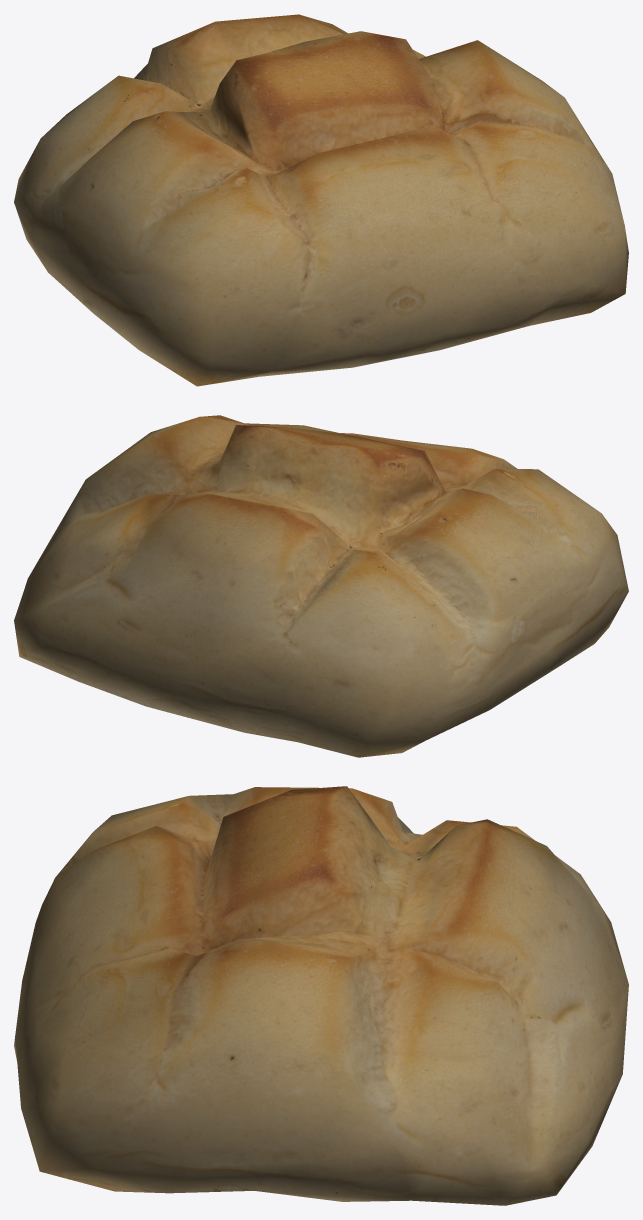
File: 3DBread004_LQ-2K-JPG.obj
The picture shows the model from 3 angles, top to bottom: view 1: azimuth 30°, elevation 25°; view 2: azimuth 150°, elevation 25°; view 3: azimuth 270°, elevation 25°; orthographic projection. The views are drawn at different scales.
Parts seen in each view (by area): view 1: 3DBread004_LQ-2K-JPG; view 2: 3DBread004_LQ-2K-JPG; view 3: 3DBread004_LQ-2K-JPG.
Part boxes in pixels (x1,y1,x2,y2): 3DBread004_LQ-2K-JPG: [14, 14, 628, 386]; 3DBread004_LQ-2K-JPG: [14, 415, 628, 757]; 3DBread004_LQ-2K-JPG: [14, 786, 628, 1205].
Size of the model in its own units: 0.1192 by 0.0528 by 0.1082.
1 material, 1 textured.
